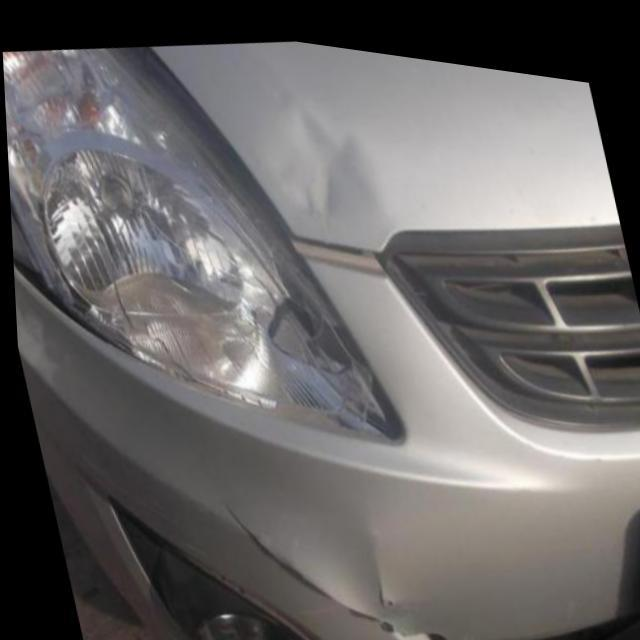crack: (210, 499, 398, 638), (354, 520, 399, 604)
dent: (230, 95, 365, 217), (8, 206, 50, 322)
